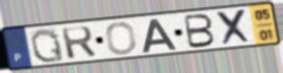A: (141, 17, 179, 54)
B: (183, 12, 217, 50)
O: (105, 21, 139, 56)
Q: (28, 27, 67, 64)
R: (59, 25, 99, 61)
X: (215, 8, 254, 47)
